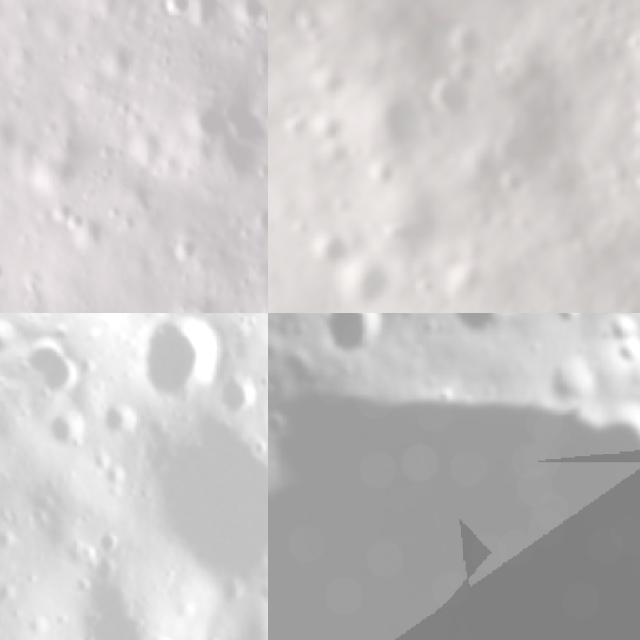crater: (268, 313, 640, 640), (118, 399, 268, 616), (0, 512, 184, 640), (110, 313, 239, 415), (206, 355, 268, 423), (331, 247, 395, 311), (30, 348, 95, 410), (311, 313, 388, 364), (415, 68, 482, 126), (86, 389, 146, 449), (38, 397, 98, 456), (432, 313, 530, 349), (303, 222, 354, 272), (441, 14, 495, 61), (86, 514, 130, 559), (596, 313, 640, 349), (617, 89, 640, 152), (608, 333, 640, 377), (548, 313, 588, 333), (157, 0, 194, 21), (139, 629, 187, 640)
